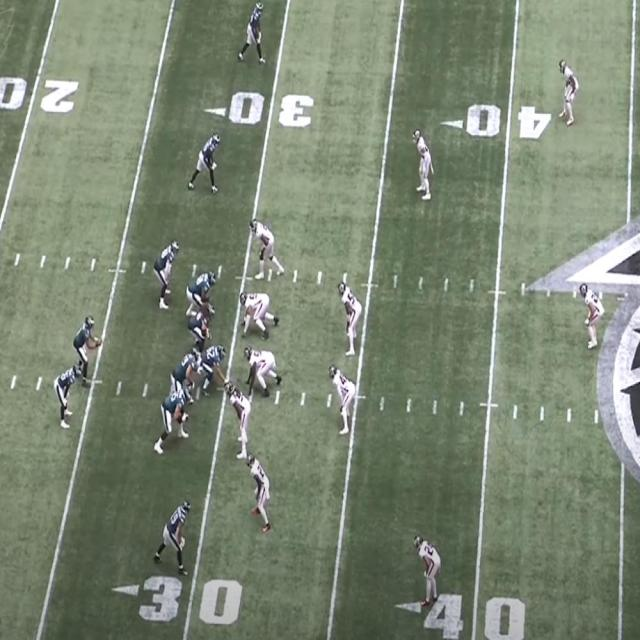center: (200, 344, 226, 386)
db: (248, 454, 276, 534), (415, 535, 443, 607), (580, 285, 606, 352), (412, 126, 434, 202), (559, 61, 580, 123)
lb: (328, 366, 358, 433), (338, 283, 364, 354)
qb: (73, 313, 102, 380)
skill: (156, 496, 190, 572), (188, 127, 220, 190), (54, 360, 82, 430), (240, 0, 268, 67), (154, 240, 179, 308)
